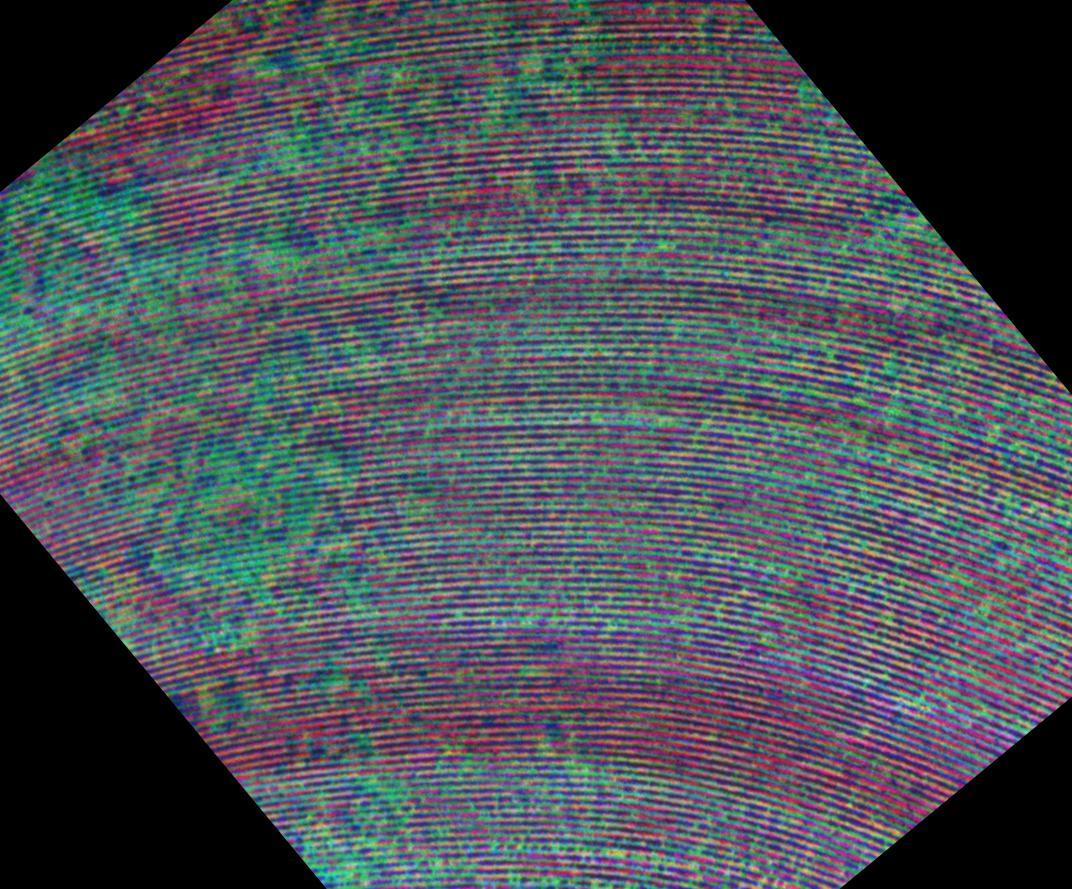dc: (0, 196, 230, 412), (157, 423, 352, 643), (246, 79, 443, 169), (245, 207, 410, 298), (306, 765, 422, 882), (481, 29, 603, 130), (247, 335, 383, 403)
